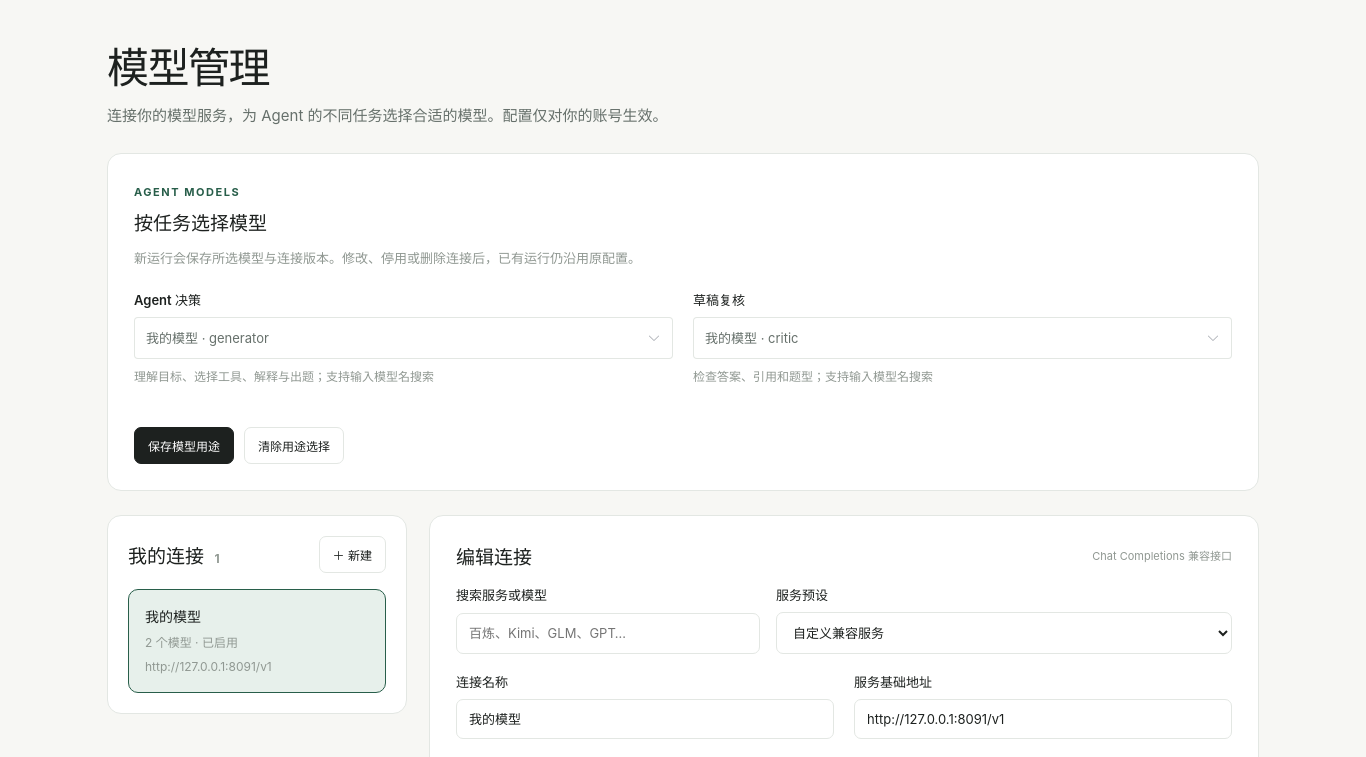
Test: allows distinct decision and review models and only applies them on explicit save
The width and height of the screenshot is (1366, 757).
Click the button "保存模型用途". click: x=184, y=445
box: [134,426,234,464]
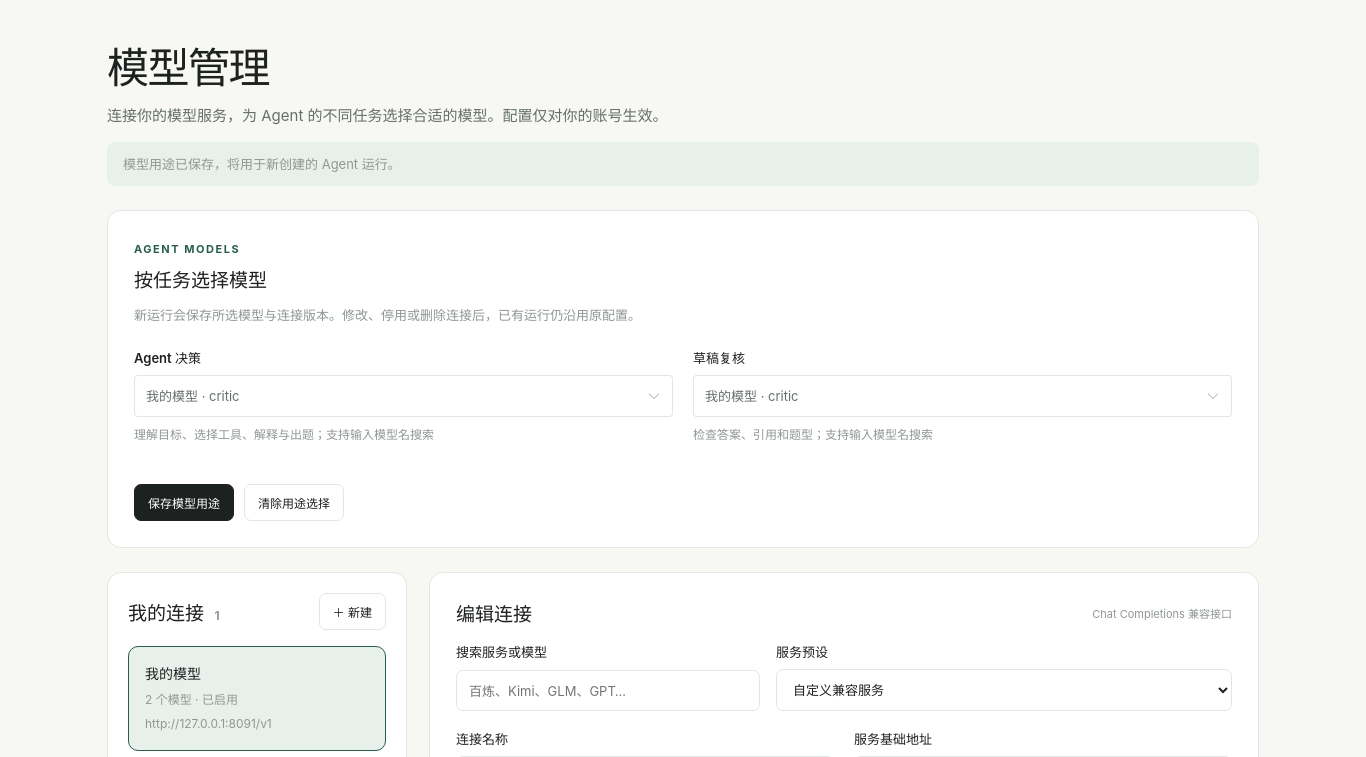
Expected: the text "新创建的 Agent 运行" is shown, [123,156,401,172]
